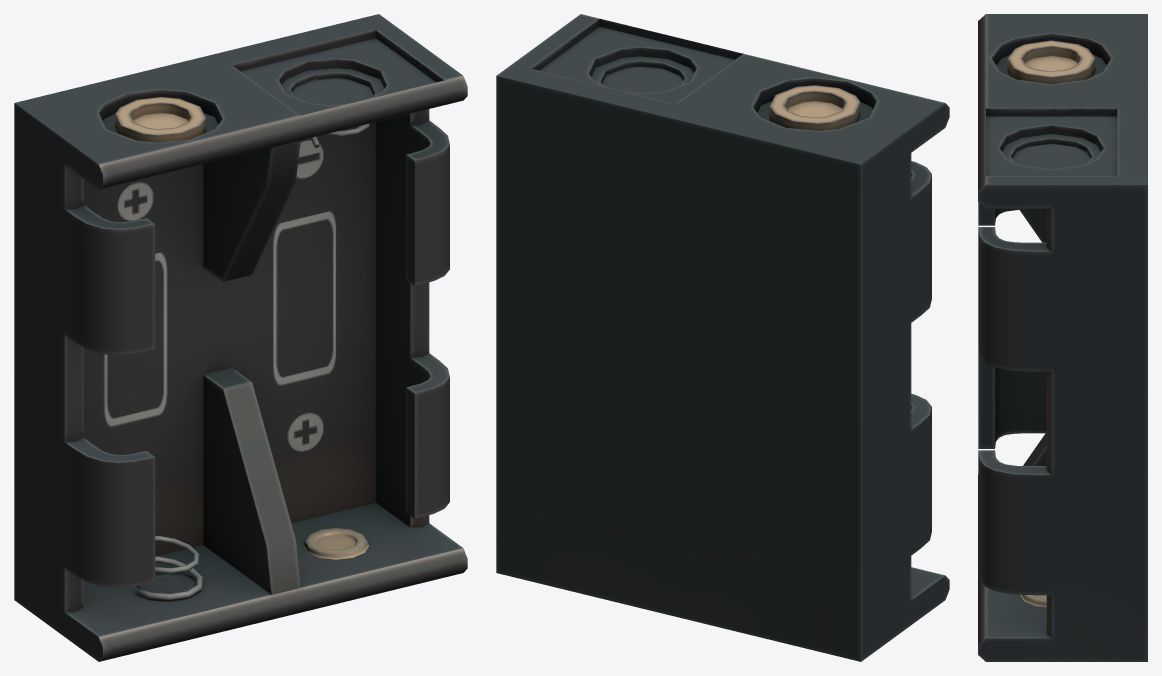
The model's file is Battery_Box.fbx.
3 renders of one model, left to right at view 1: azimuth 30°, elevation 25°; view 2: azimuth 150°, elevation 25°; view 3: azimuth 270°, elevation 25°, orthographic. The views are drawn at different scales.
Visible parts, largest first — view 1: Battery_Box; view 2: Battery_Box; view 3: Battery_Box.
Part boxes in pixels (x1=…): Battery_Box: x1=14, y1=14, x2=467, y2=661; Battery_Box: x1=496, y1=14, x2=949, y2=661; Battery_Box: x1=978, y1=14, x2=1147, y2=661.
Size of the model in its own units: 1.59 by 2.08 by 0.6706.
Materials: 1 (1 with a texture image).
